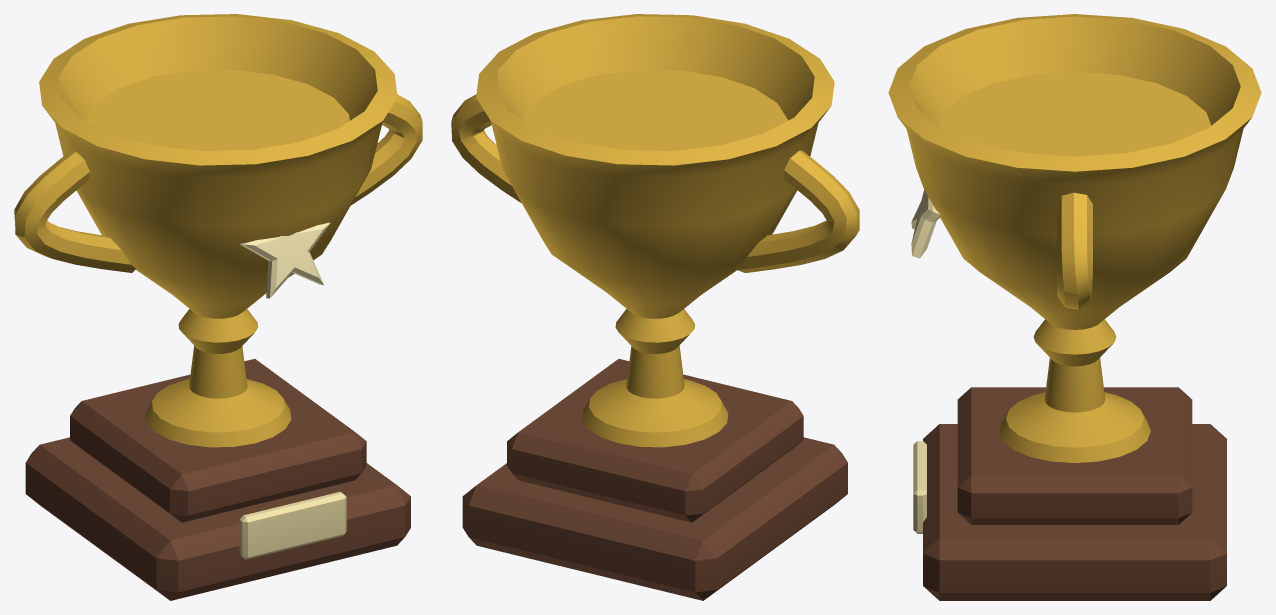
File: trofeu.glb
3 renders of one model, left to right at view 1: azimuth 30°, elevation 25°; view 2: azimuth 150°, elevation 25°; view 3: azimuth 270°, elevation 25°, orthographic. The views are drawn at different scales.
Parts seen in each view (by area): view 1: trofeu; view 2: trofeu; view 3: trofeu.
Part boxes in pixels (x1,y1,x2,y2): trofeu: [14, 14, 422, 600]; trofeu: [451, 14, 859, 600]; trofeu: [888, 14, 1261, 600].
Size of the model in its own units: 0.3497 by 0.365 by 0.27.
